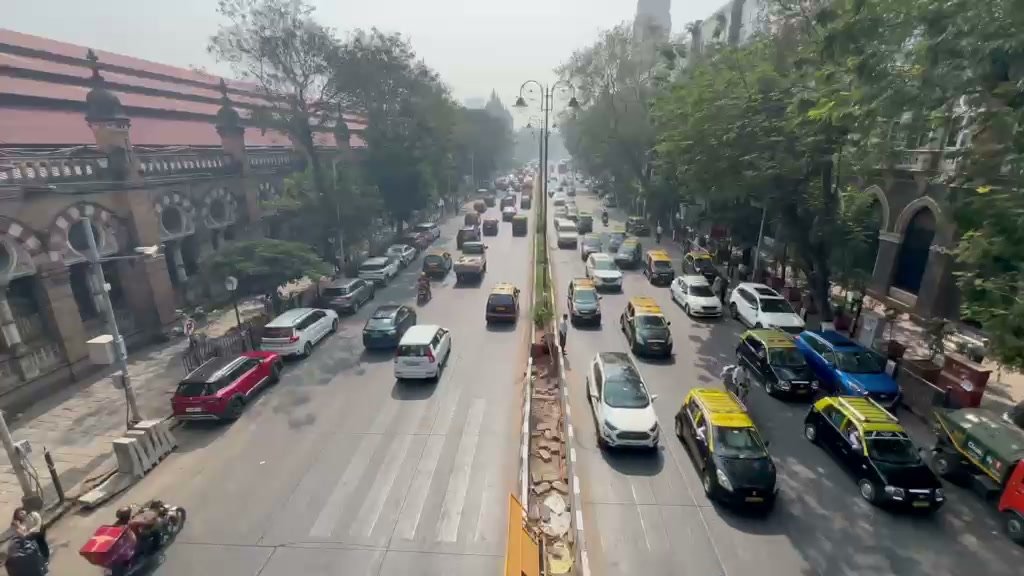car: (928, 404, 1023, 498), (793, 328, 904, 408), (170, 350, 283, 425), (79, 499, 187, 575), (586, 351, 662, 453), (731, 326, 817, 402), (256, 305, 339, 360), (729, 282, 806, 330), (392, 322, 452, 381), (619, 299, 675, 360), (362, 302, 416, 351), (314, 275, 376, 316), (996, 459, 1024, 546), (669, 274, 724, 318), (567, 277, 602, 329), (585, 254, 625, 294), (485, 284, 519, 329), (357, 255, 401, 285), (423, 251, 454, 283)
pedestrian: (1, 508, 50, 576)
truck: (801, 394, 946, 514), (674, 384, 779, 515), (928, 404, 1024, 499), (452, 240, 487, 287), (643, 248, 678, 287)
